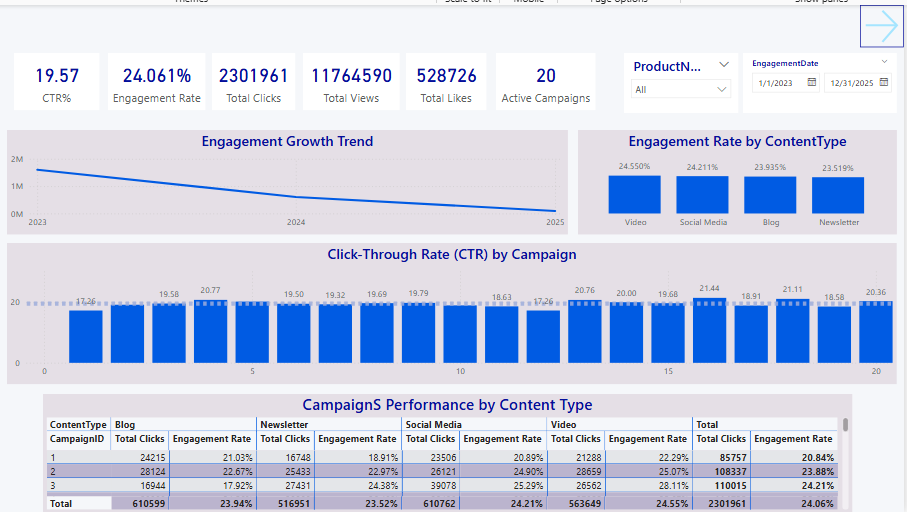

Layout of this report page (visuals, bound fields, positions):
{"tool":"powerbi","page":{"name":"Marketing Engagement & Campaign Effectiveness Analysis","canvas":[1280,720],"ordinal":2},"visuals":[{"type":"clusteredColumnChart","fields":{"Category":["vw_engagement_data_final.ContentType"],"Y":["KPI_Measures.Engagement Rate"]},"box":[819.4,177.1,452.2,148.3],"z":0},{"type":"lineChart","title":"Engagement Growth Trend","fields":{"Category":["vw_engagement_data_final.EngagementDate.Variation.Date Hierarchy.Year","vw_engagement_data_final.EngagementDate.Variation.Date Hierarchy.Quarter","vw_engagement_data_final.EngagementDate.Variation.Date Hierarchy.Month","vw_engagement_data_final.EngagementDate.Variation.Date Hierarchy.Day"],"Y":["KPI_Measures.Total Clicks"]},"box":[10.1,177.1,794.9,148.3],"z":1000},{"type":"card","fields":{"Values":["KPI_Measures.Total Clicks"]},"box":[301,67.7,118.1,80.6],"z":2000},{"type":"clusteredColumnChart","title":"Click-Through Rate (CTR) by Campaign","fields":{"Y":["KPI_Measures.CTR%"],"Category":["vw_engagement_data_final.CampaignID"]},"box":[9.9,337.3,1261.4,199.8],"z":3000},{"type":"pivotTable","title":"CampaignS Performance by Content Type","fields":{"Rows":["vw_engagement_data_final.CampaignID"],"Columns":["vw_engagement_data_final.ContentType"],"Values":["KPI_Measures.Total Clicks","KPI_Measures.Engagement Rate"]},"box":[60.9,551.3,1146.6,168.7],"z":4000},{"type":"card","fields":{"Values":["KPI_Measures.Total Likes"]},"box":[576,67.7,113.8,80.6],"z":5000},{"type":"slicer","fields":{"Values":["vw_engagement_data_final.EngagementDate"]},"box":[1053.1,68,218.3,85],"z":6000},{"type":"slicer","fields":{"Values":["vw_products_final.ProductName"]},"box":[884.4,68,161.6,85],"z":7000},{"type":"card","fields":{"Values":["KPI_Measures.Total Views"]},"box":[429.1,67.7,136.8,80.6],"z":8000},{"type":"actionButton","box":[1218.2,0,61.9,60.5],"z":9000},{"type":"card","fields":{"Values":["KPI_Measures.CTR"]},"box":[20.2,67.7,121,80.6],"z":10000},{"type":"card","fields":{"Values":["KPI_Measures.Engagement Rate"]},"box":[152.6,67.7,138.2,80.6],"z":11000},{"type":"card","fields":{"Values":["KPI_Measures.Active Campaigns"]},"box":[702.7,67.7,141.1,80.6],"z":12000}]}

Visuals, with their boxes on the page's 1280x720 design canvas (x1, y1, x2, y2). These are canvas units, not pixel positions in the 907x512 screenshot, which may show the page scaled, cropped or inside an application window:
clusteredColumnChart - vw_engagement_data_final.ContentType x KPI_Measures.Engagement Rate: [819,177,1272,325]
"Engagement Growth Trend" lineChart: [10,177,805,325]
card - KPI_Measures.Total Clicks: [301,68,419,148]
"Click-Through Rate (CTR) by Campaign" clusteredColumnChart: [10,337,1271,537]
"CampaignS Performance by Content Type" pivotTable: [61,551,1208,720]
card - KPI_Measures.Total Likes: [576,68,690,148]
slicer - vw_engagement_data_final.EngagementDate: [1053,68,1271,153]
slicer - vw_products_final.ProductName: [884,68,1046,153]
card - KPI_Measures.Total Views: [429,68,566,148]
actionButton: [1218,0,1280,60]
card - KPI_Measures.CTR: [20,68,141,148]
card - KPI_Measures.Engagement Rate: [153,68,291,148]
card - KPI_Measures.Active Campaigns: [703,68,844,148]
